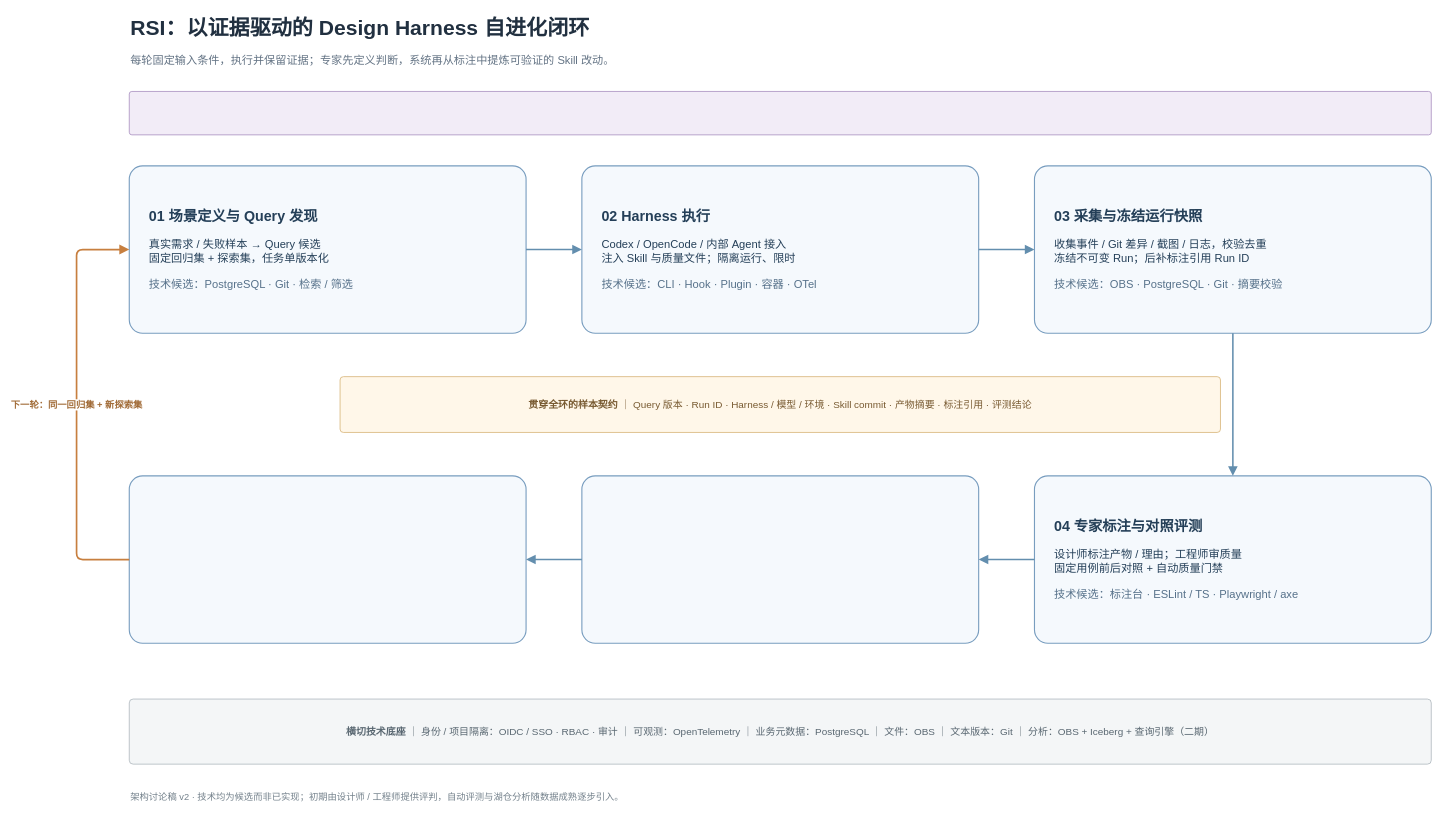
The diagram is 1448 pixels wide and 821 high, and some of its shapes have lost their labels. Here are the shapes that lost their labels. From the top down, the centre of each, then its label:
At (780,113): "专家标准持续输入 ｜ 设计师：品牌 / 审美 / 体验规范与标注 ｜ 工程师：质量文件 / 技术约束 / 可执行检查规则".
At (327,559): "06 Skill 更新与发布 修改规则 / 保存父版本与差异 先生成候选；下轮评测后晋升或回退 技术候选：Git · PR / CI · 发布记录".
At (780,559): "05 经验提取与总结 聚合重复问题与反例，形成规则候选 记录证据、适用范围和人审结论 技术候选：批处理 / LLM · SQL · Iceberg（二期）".
